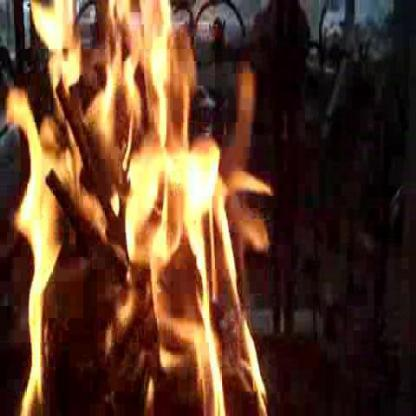fire: (0, 1, 270, 408)
